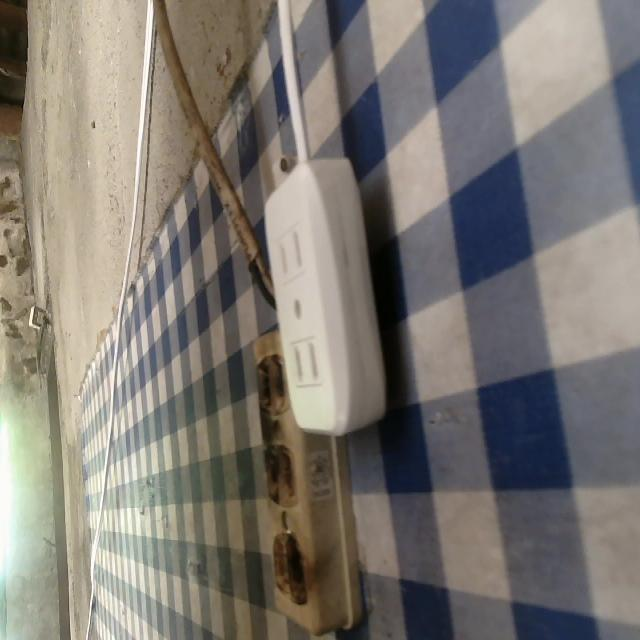-: (260, 437, 299, 507), (271, 528, 308, 601), (252, 353, 287, 412)
